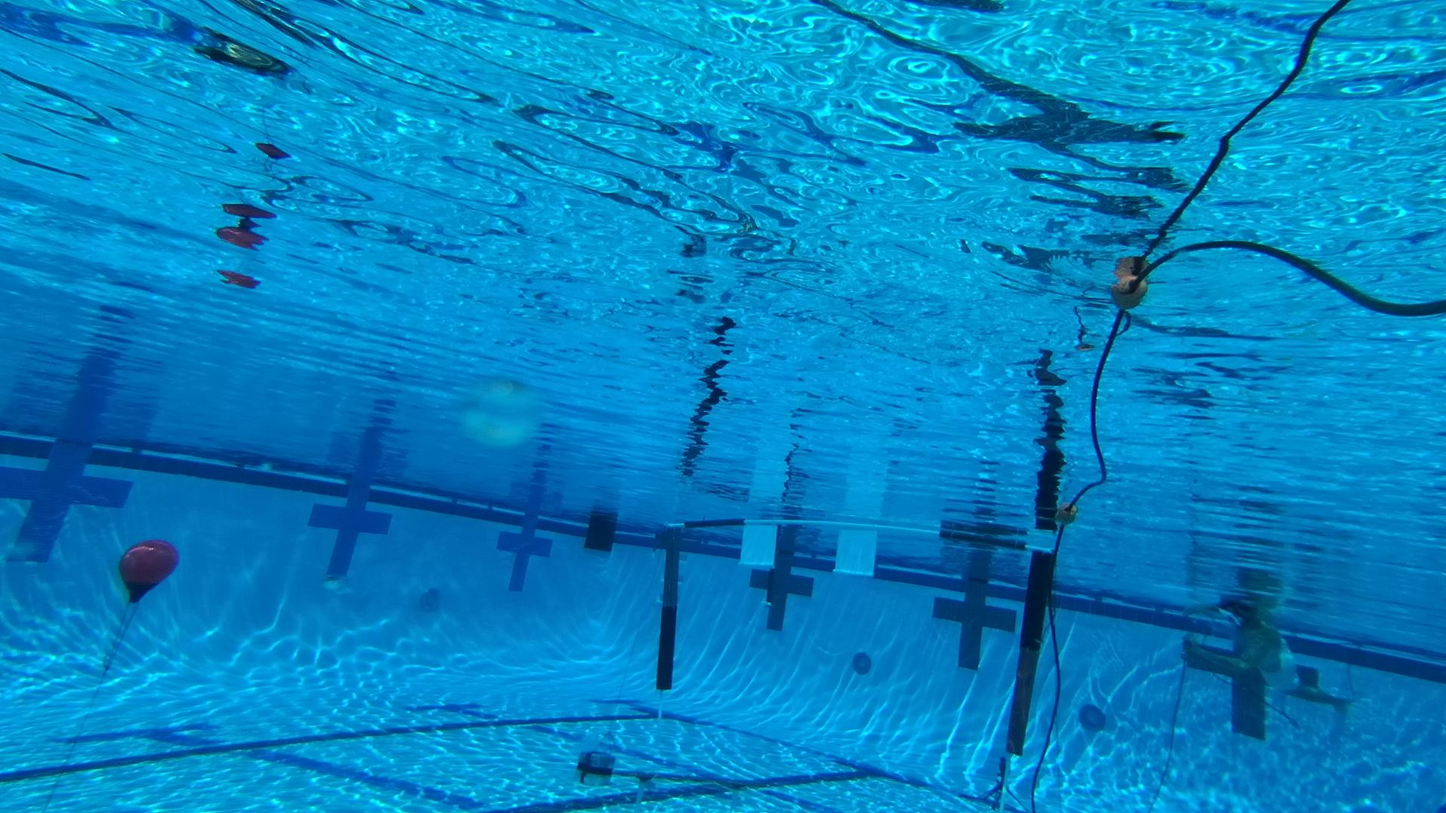buoy: (117, 537, 178, 604)
path: (612, 767, 770, 813)
